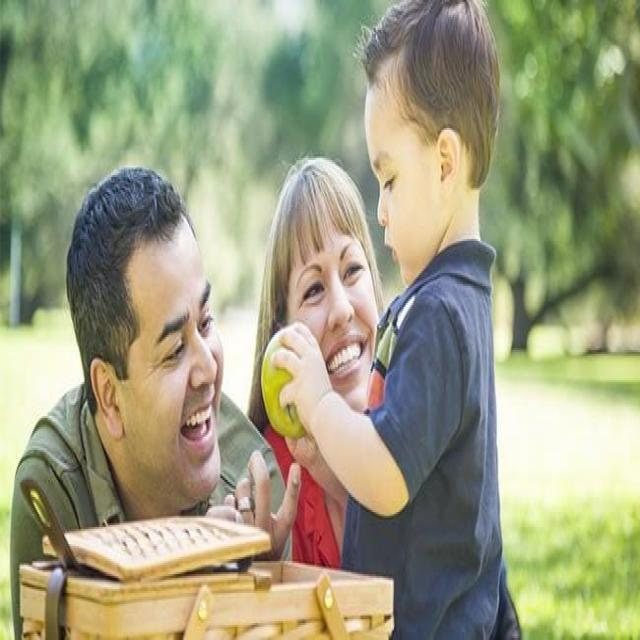child: (281, 2, 516, 635)
